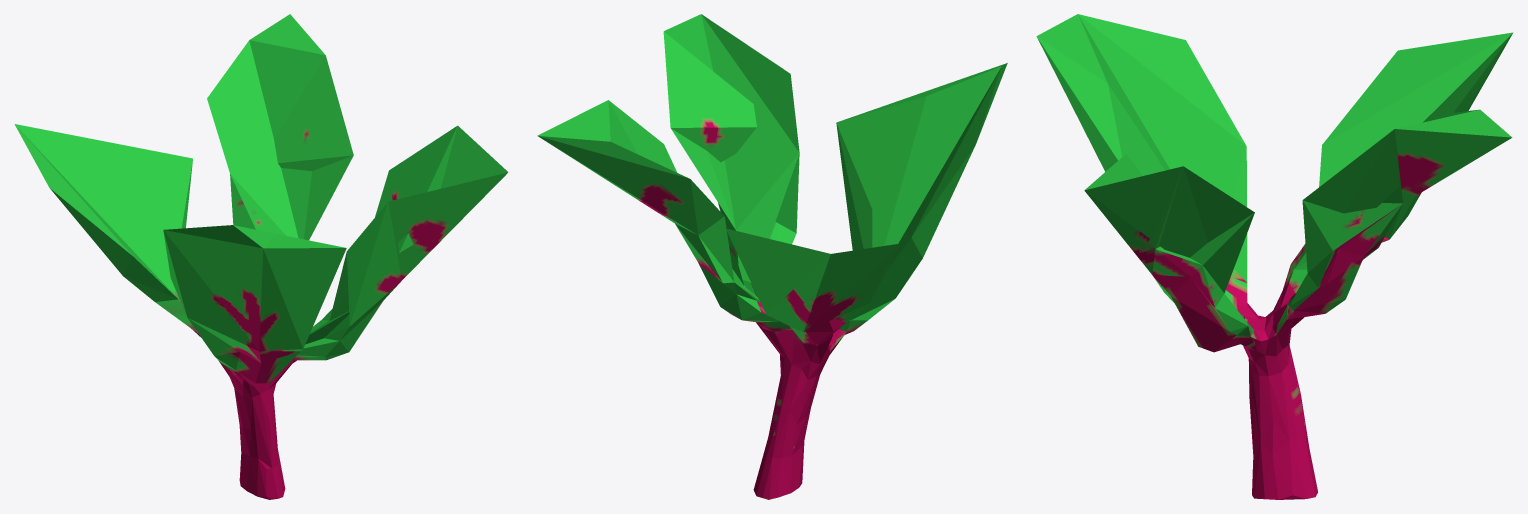
The model's file is Betterave.fbx.
3 views of the same model, side by side, from view 1: azimuth 30°, elevation 25°; view 2: azimuth 150°, elevation 25°; view 3: azimuth 270°, elevation 25° (orthographic). The views are drawn at different scales.
Parts seen in each view (by area): view 1: Betterave; view 2: Betterave; view 3: Betterave.
Boxes of the visible parts, x1=… form: Betterave: x1=14, y1=14, x2=508, y2=499; Betterave: x1=537, y1=14, x2=1007, y2=499; Betterave: x1=1036, y1=14, x2=1513, y2=499.
Bounding box in the file's own units: 268 × 295 × 298.
Materials: 1 (1 with a texture image).
